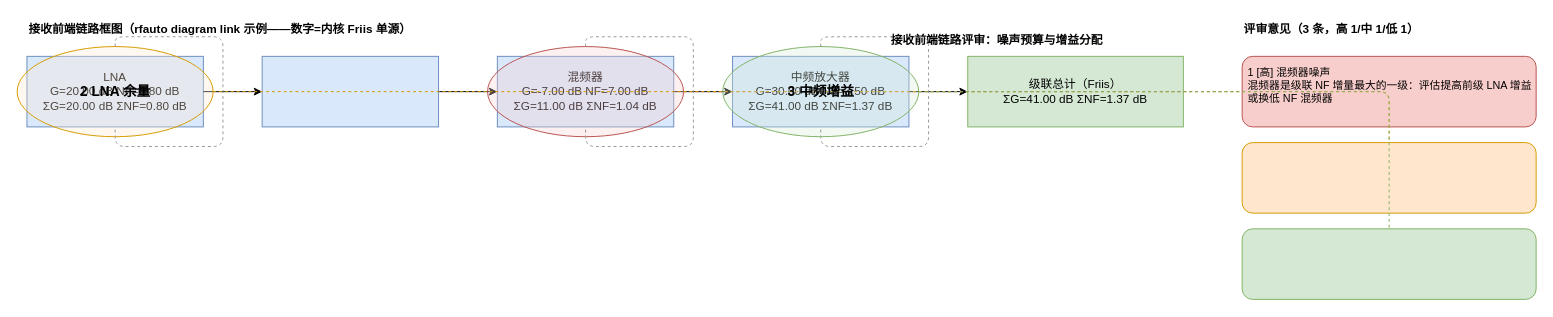
This 1553x317 diagram has some shape labels left out. The shapes that lost their labels are listed below. From the top down, each one's box as (x1, y1, x2, y2) in pixels, then its label:
(261, 55, 439, 127): 镜像抑制滤波器 G=-2.00 dB NF=2.00 dB ΣG=18.00 dB ΣNF=0.82 dB
(487, 46, 684, 137): 1 混频器噪声
(1241, 142, 1536, 213): 2 [中] LNA 余量 核对 LNA 增益对后级噪声的压制余量是否满足规格书
(1241, 228, 1536, 299): 3 [低] 中频增益 下一版评估中频放大器增益与线性度的折中
